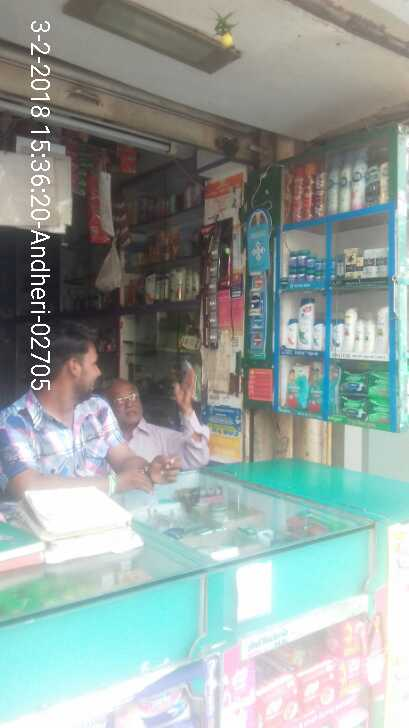vicks: (280, 250, 334, 281)
